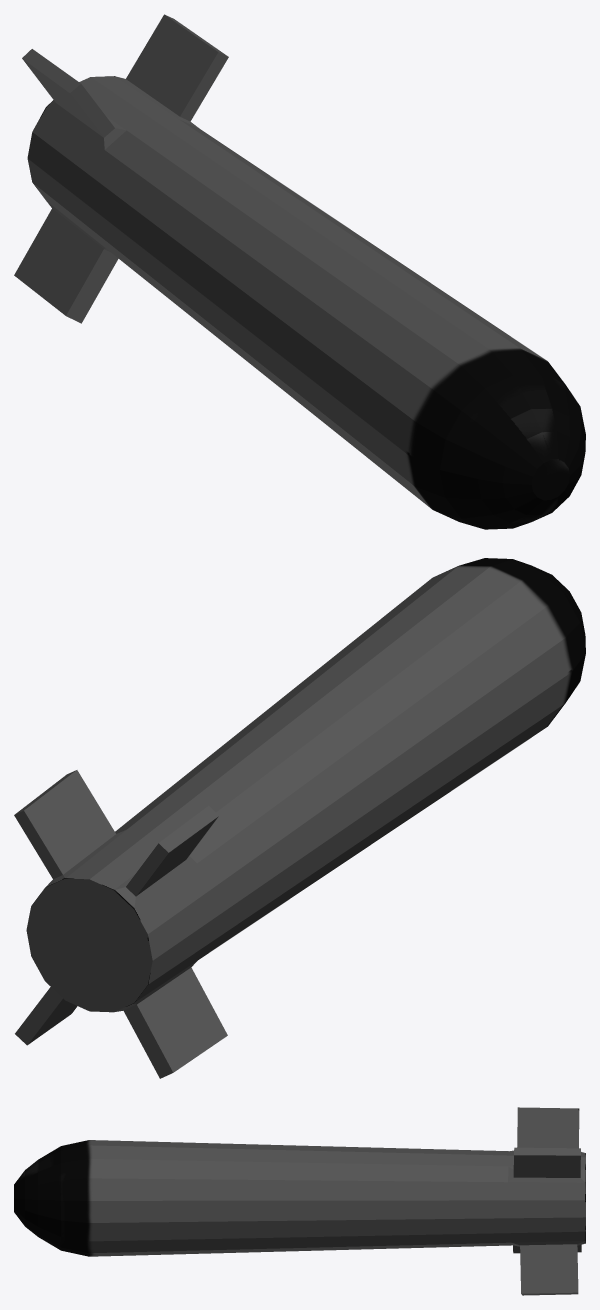
Rendered from eryx.fbx.
3 views of the same model, one above another, from view 1: azimuth 30°, elevation 25°; view 2: azimuth 150°, elevation 25°; view 3: azimuth 270°, elevation 25° (orthographic). The views are drawn at different scales.
Visible parts, largest first — view 1: Cylinder; view 2: Cylinder; view 3: Cylinder.
Boxes of the visible parts, x1,y1,x2,y2 form: Cylinder: [14, 14, 585, 529]; Cylinder: [14, 558, 585, 1078]; Cylinder: [14, 1107, 585, 1295].
Size of the model in its own units: 75.04 by 366 by 105.
Materials: 1 (1 with a texture image).
